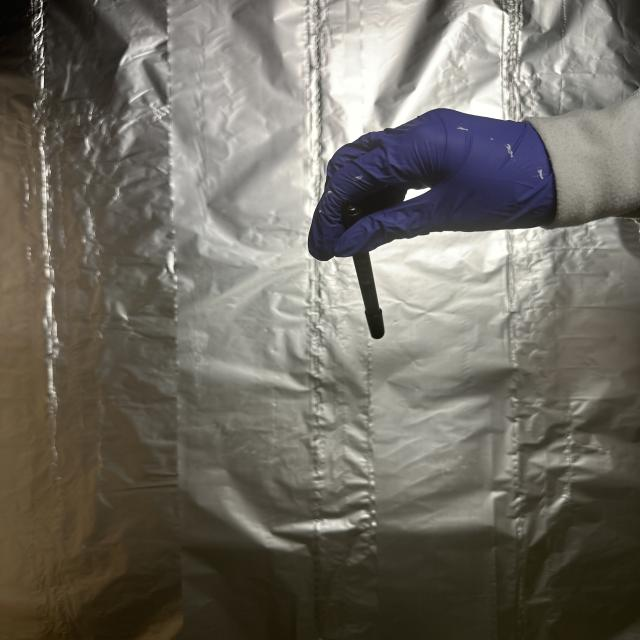gloves_contaminated: (309, 109, 556, 259)
